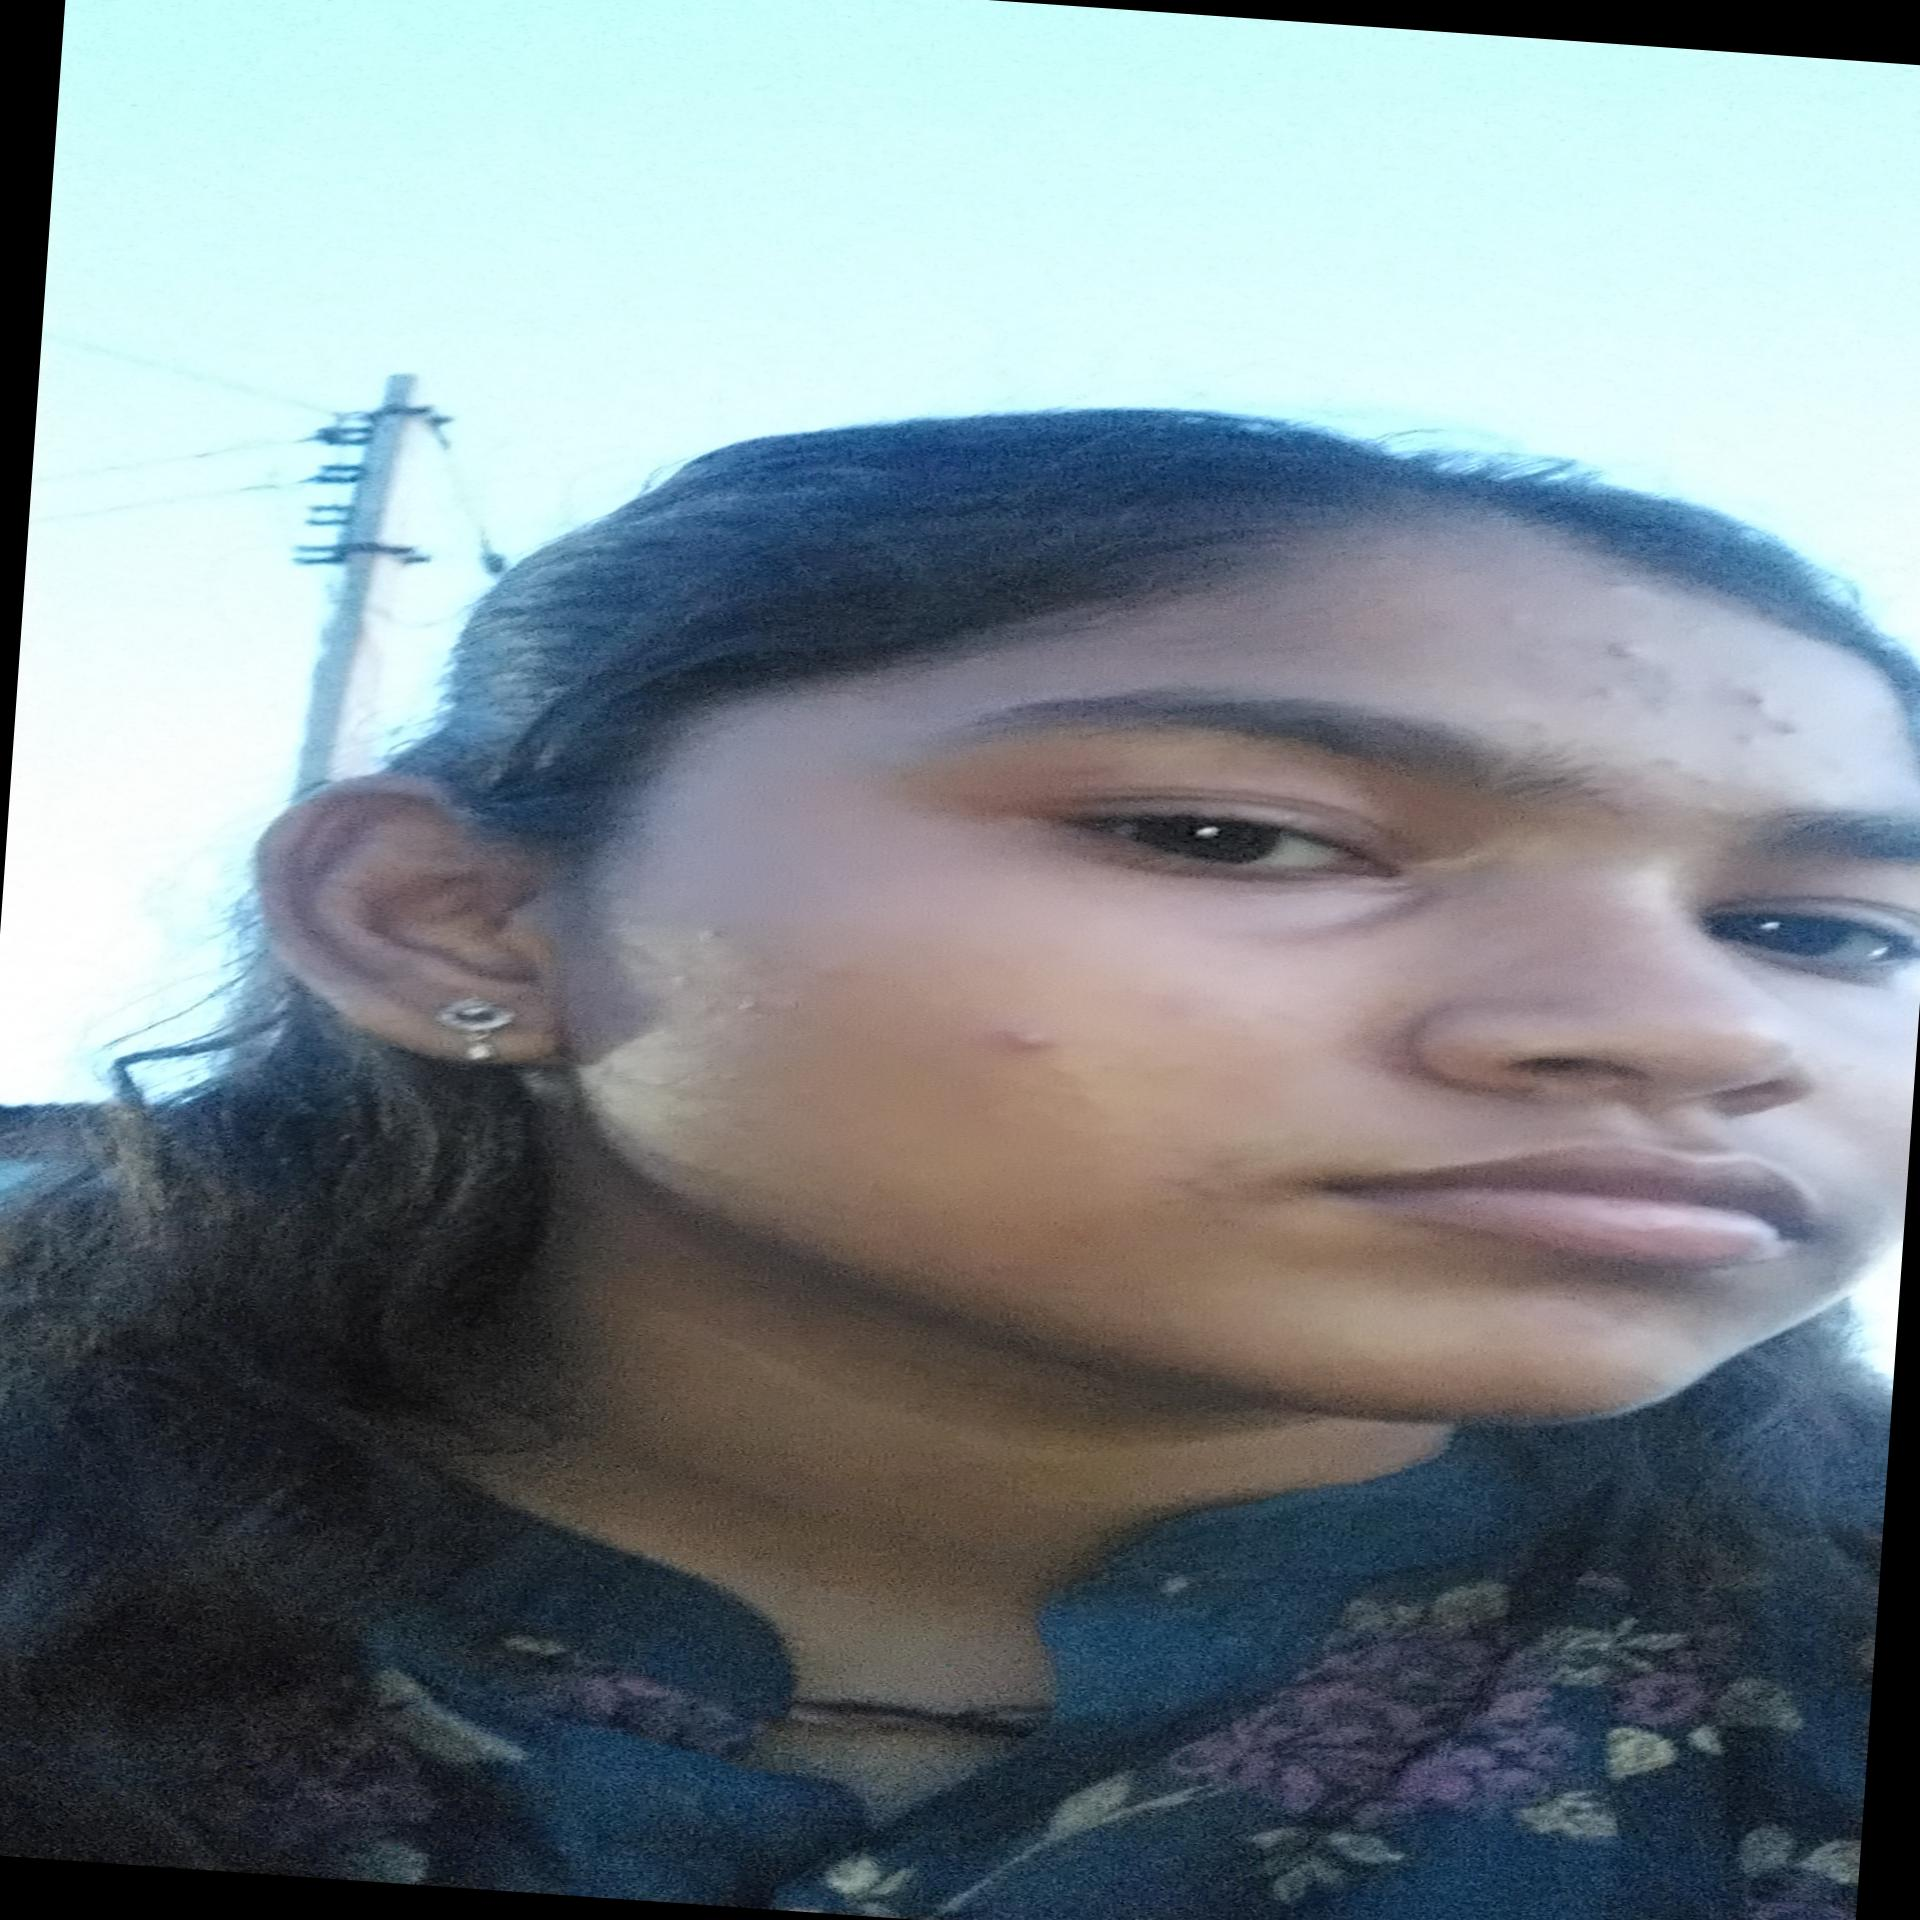Acne: (1626, 663, 1686, 719), (1646, 753, 1721, 786), (995, 1023, 1067, 1057), (1489, 601, 1545, 642), (1591, 635, 1656, 663), (1725, 680, 1779, 712), (1758, 714, 1811, 740), (1596, 575, 1656, 598), (719, 995, 770, 1016), (1584, 682, 1626, 705), (1510, 717, 1556, 738), (1728, 733, 1765, 754), (665, 969, 702, 988), (698, 928, 726, 944)
